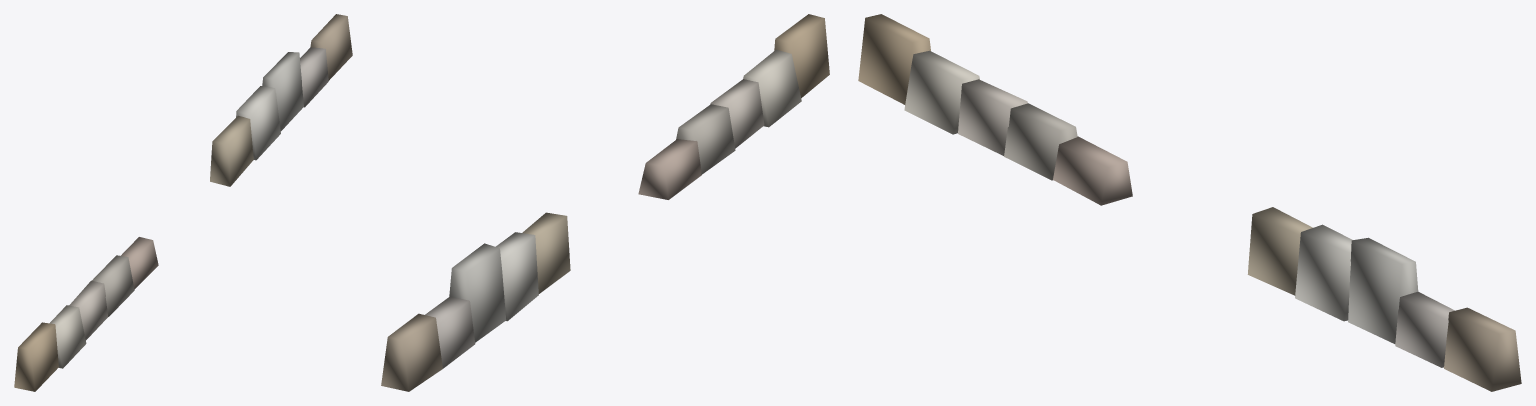
Rendered from farm_-17_-25_far.glb.
3 renders of one model, left to right at view 1: azimuth 30°, elevation 25°; view 2: azimuth 210°, elevation 25°; view 3: azimuth 270°, elevation 25°, orthographic. The views are drawn at different scales.
Visible parts, largest first — view 1: geometry_0; view 2: geometry_0; view 3: geometry_0.
Boxes of the visible parts, <box> form: geometry_0: <box>14,14,352,391</box>; geometry_0: <box>381,14,829,391</box>; geometry_0: <box>858,14,1521,391</box>.
Bounding box in the file's own units: 16.07 × 2.67 × 11.56.
